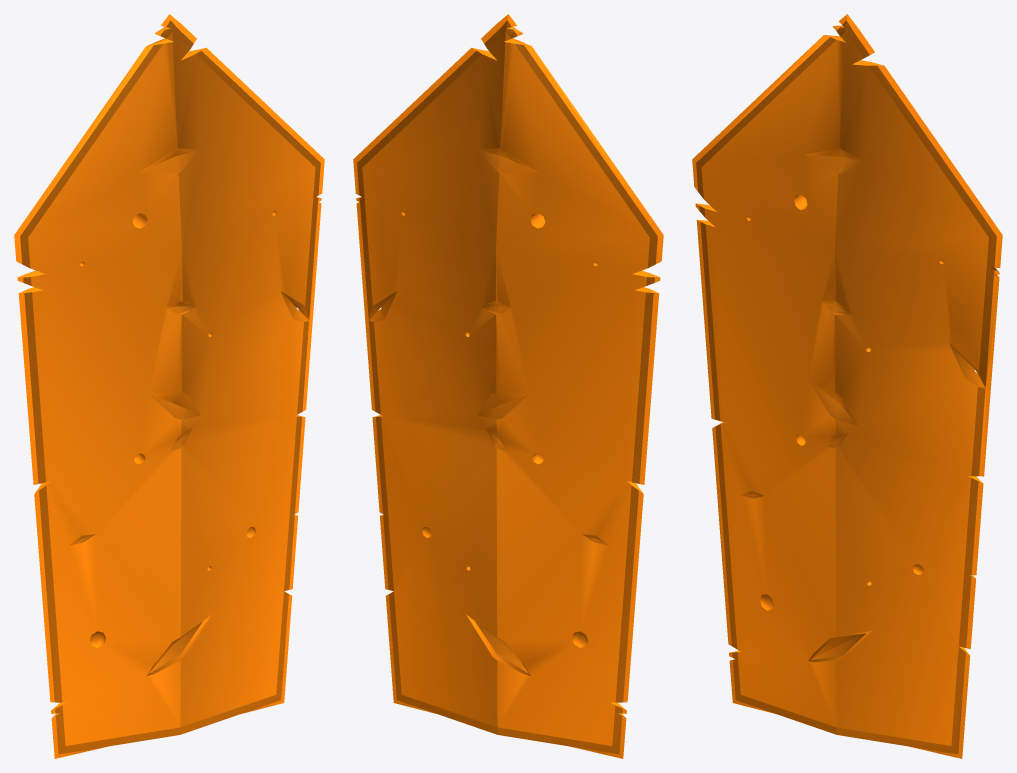
File: bronze_blade_bubbles_022.glb
3 renders of one model, left to right at view 1: azimuth 30°, elevation 25°; view 2: azimuth 150°, elevation 25°; view 3: azimuth 330°, elevation 25°, orthographic.
Parts seen in each view (by area): view 1: bronze_blade_bubbles.022; view 2: bronze_blade_bubbles.022; view 3: bronze_blade_bubbles.022.
Part boxes in pixels (<box>): bronze_blade_bubbles.022: <box>14,14,324,758</box>; bronze_blade_bubbles.022: <box>353,14,663,758</box>; bronze_blade_bubbles.022: <box>692,14,1002,758</box>.
Size of the model in its own units: 5.17 by 11.43 by 0.7262.
Materials: 1 (1 with a texture image).
